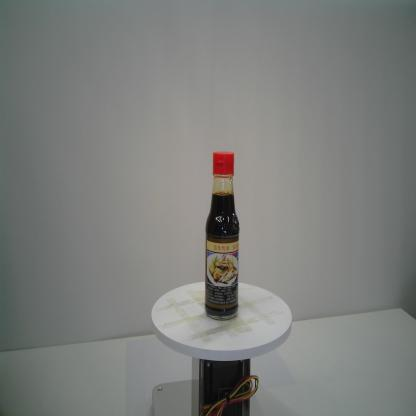Seasoner: (202, 148, 242, 322)
